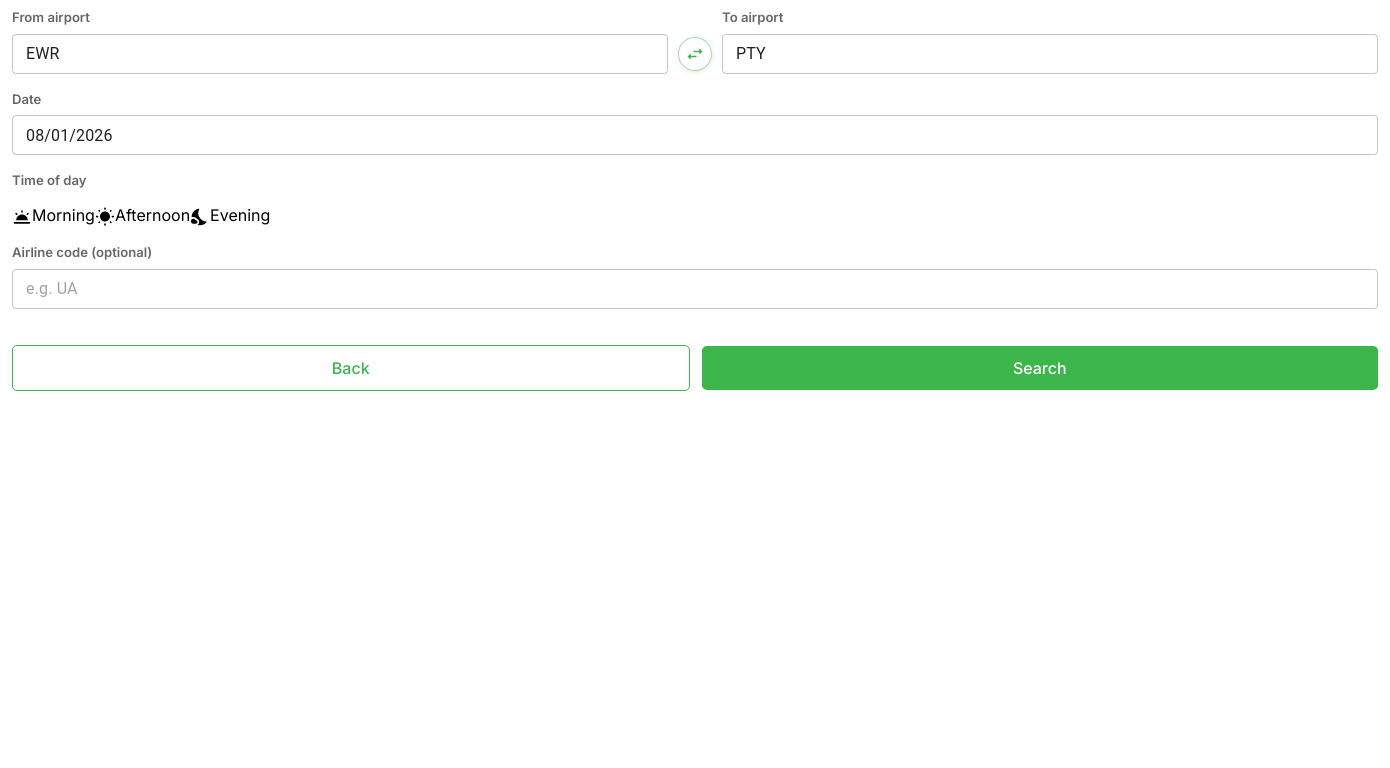
Test: FlightDeparturesSearch › renders result rows after a search
Click the button "Search".
click(1040, 368)  # box [702, 346, 1378, 390]
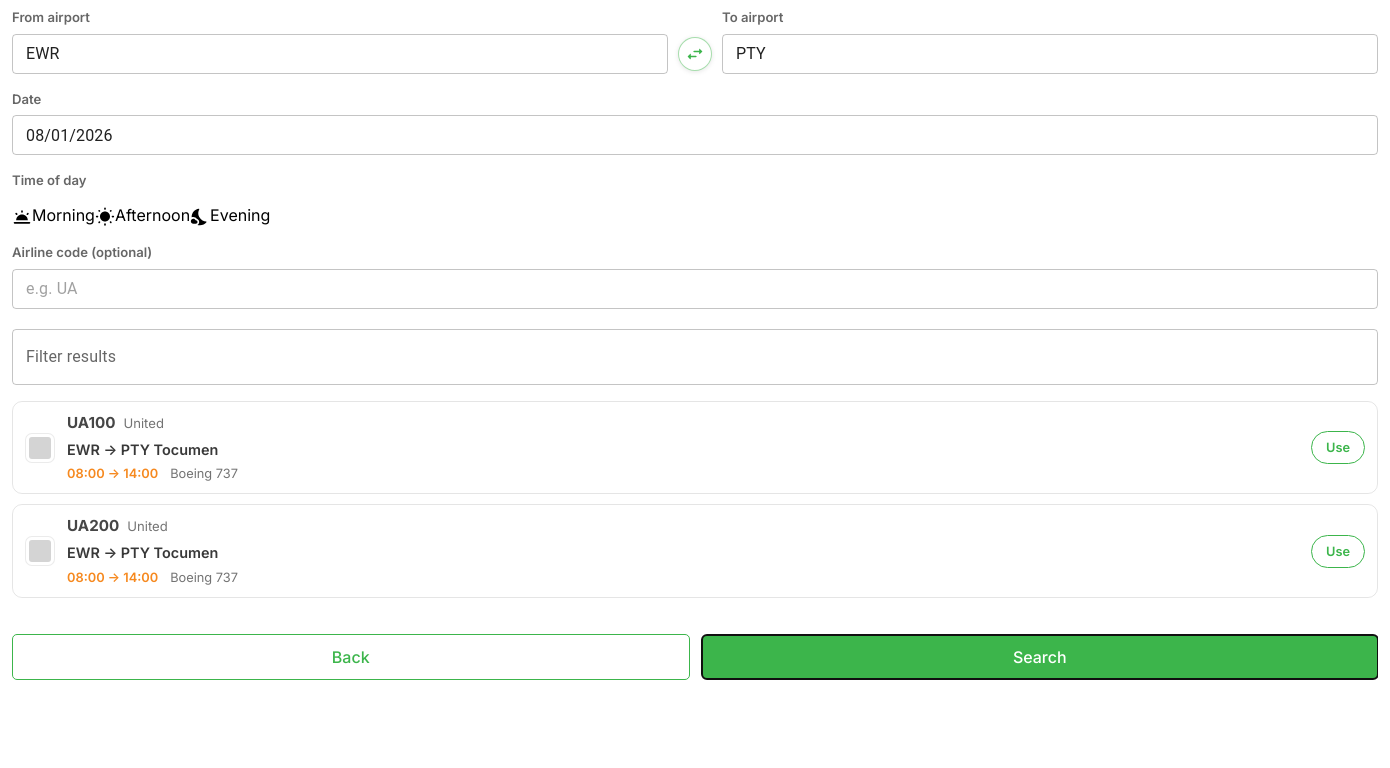
Expected: the text "UA100" is shown, [67, 412, 115, 435]
Expected: the text "UA200" is shown, [67, 515, 119, 538]
Expected: the text "Use" is shown 2 times, [1311, 431, 1365, 464]; [1311, 534, 1365, 568]
